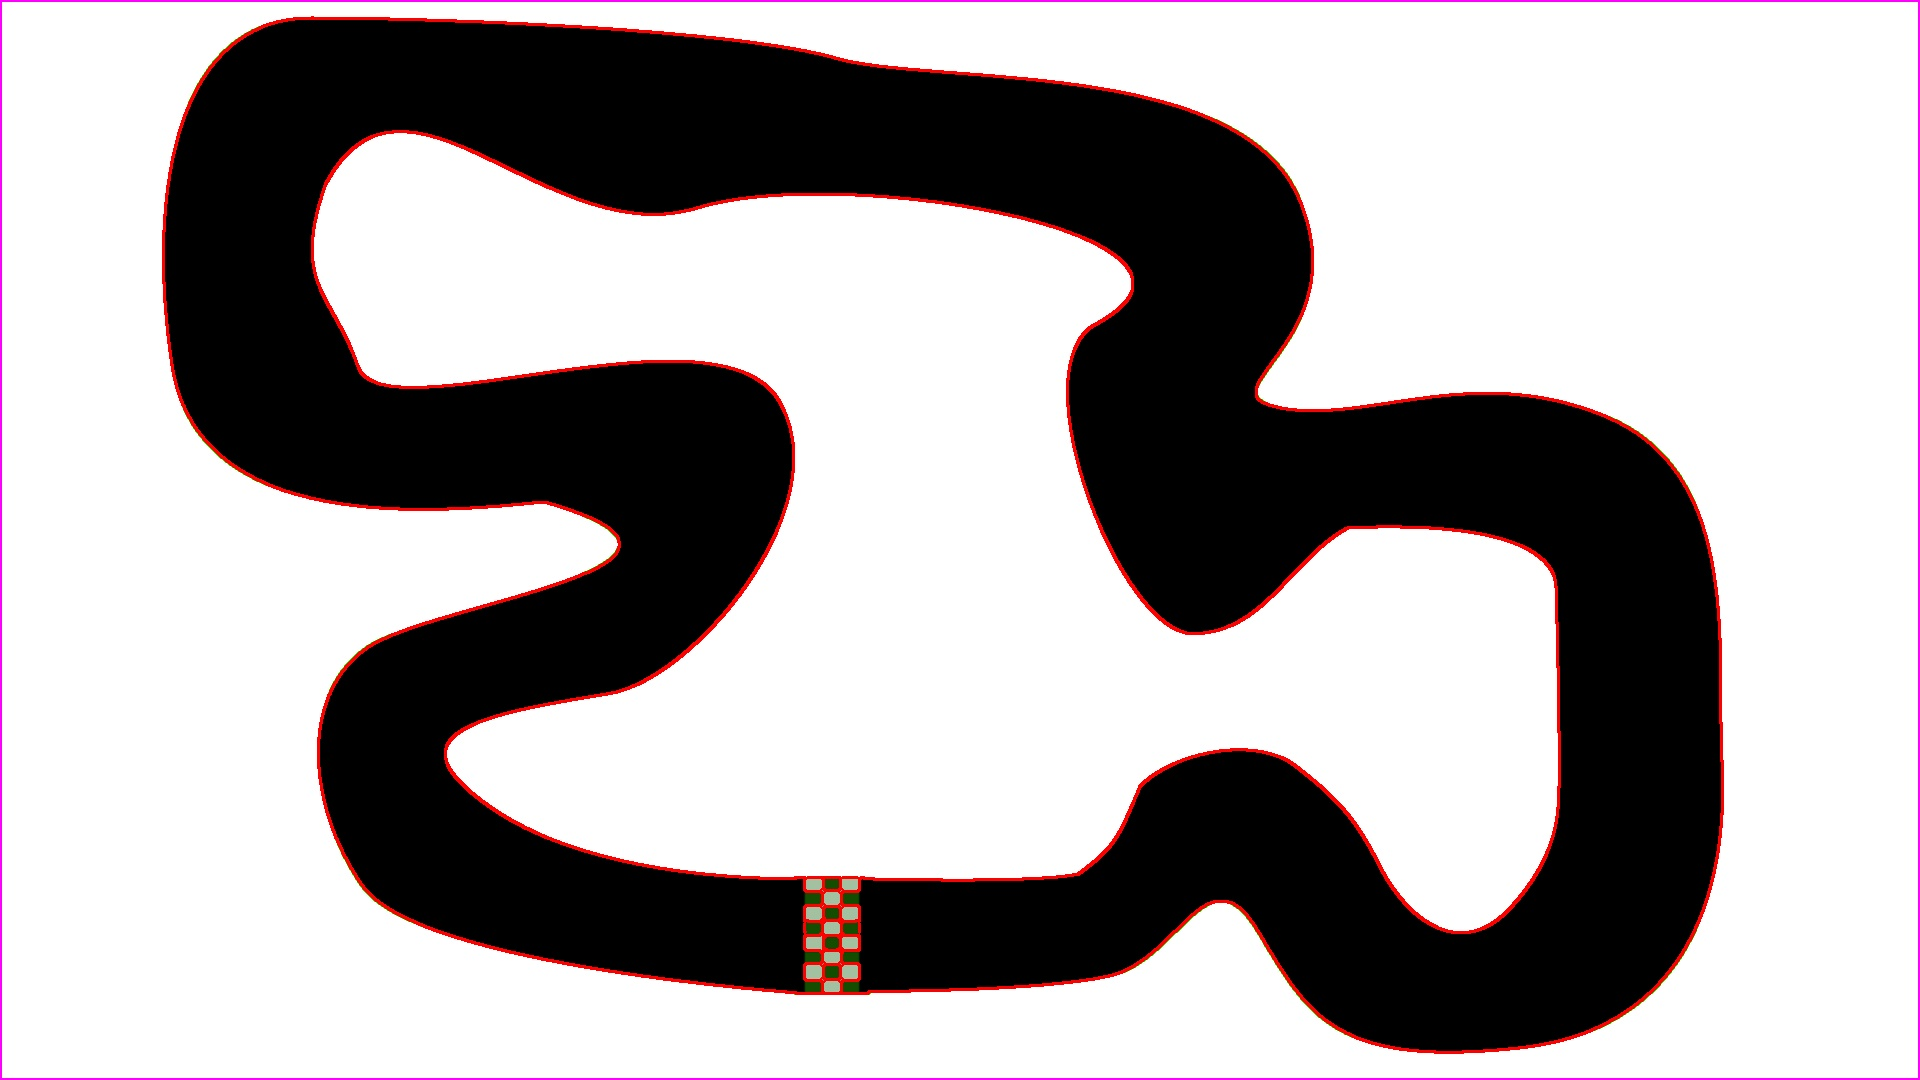

Layout of this report page (visuals, bound fields, positions):
{"tool":"powerbi","page":{"name":"Página 1","canvas":[1280,720],"ordinal":0},"visuals":[{"type":"scatterChart","fields":{"X":["racing_line.x"],"Y":["racing_line.y"],"Series":["racing_line.action"]},"box":[0,0,1010.8,720],"z":1}]}

Visuals, with their boxes in screenshot pixels (x1, y1, x2, y2), scaled from the page's 1280x720 canvas onto the 1920x1080 screenshot:
scatterChart - racing_line.x x racing_line.y: left=0, top=0, right=1516, bottom=1079
